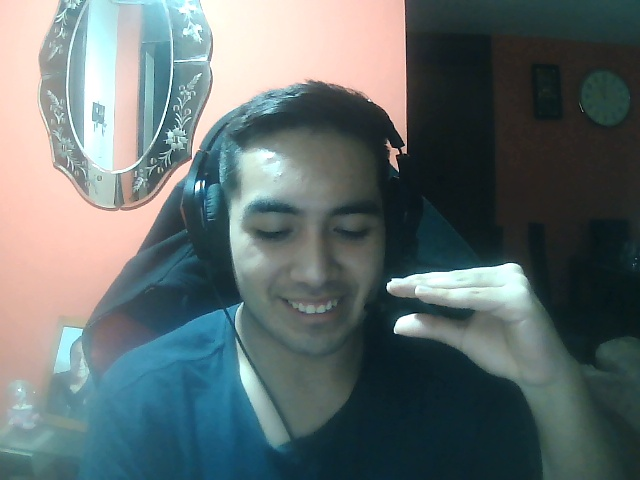no: (385, 256, 584, 387)
